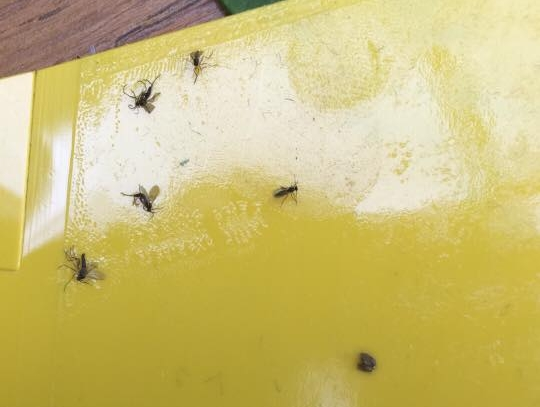Fruit fly: (181, 30, 250, 108), (255, 171, 345, 229), (51, 232, 116, 292), (122, 73, 163, 128), (124, 166, 160, 219)
